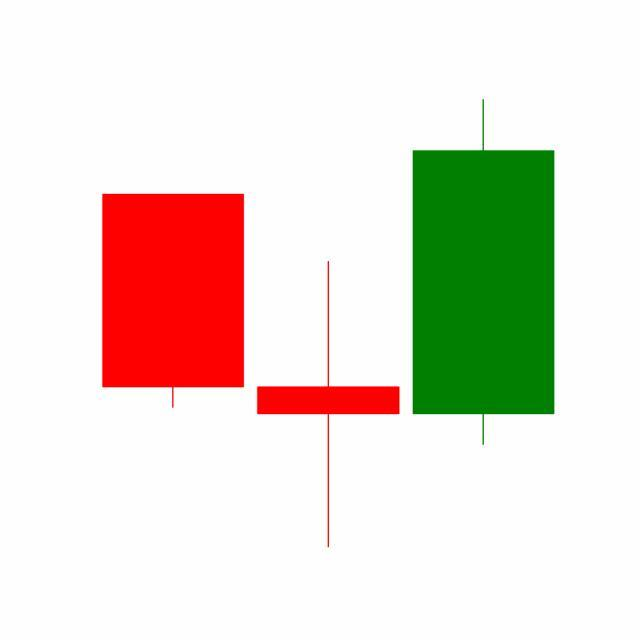Spinning Top: (250, 259, 407, 552)
